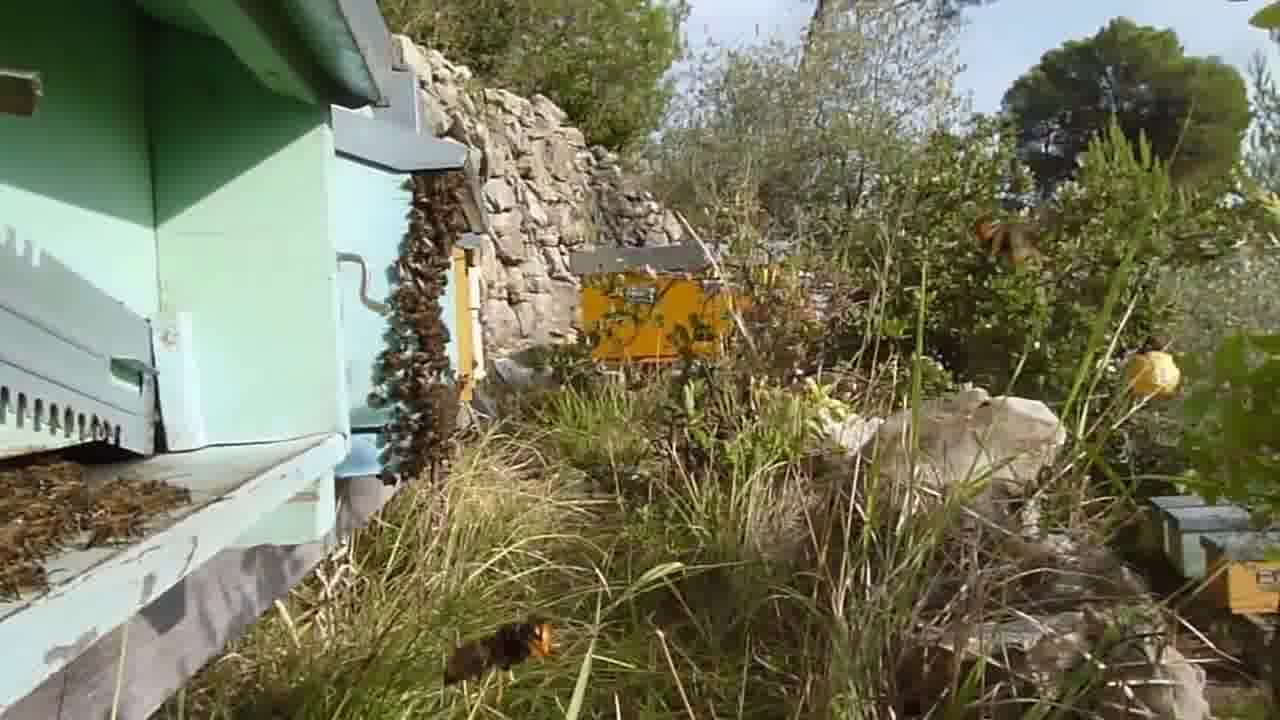bee: (1, 454, 86, 602), (373, 344, 458, 479), (89, 468, 191, 543), (408, 176, 476, 260), (385, 258, 450, 343)
hornet: (438, 605, 558, 690)
